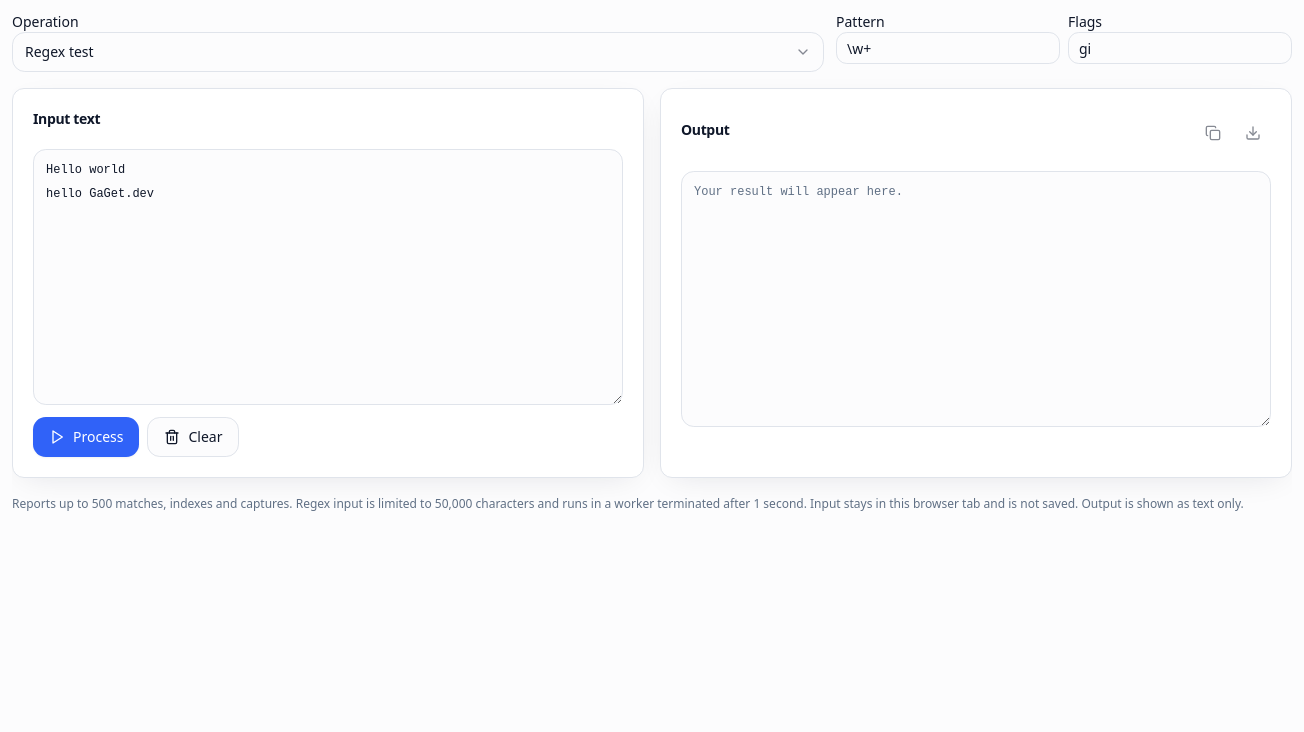
Test case: shows actionable regex errors without changing the source text
Replace the text in the field named "Regular expression pattern" with "[": {"x": 948, "y": 48} [836,32,1060,64]
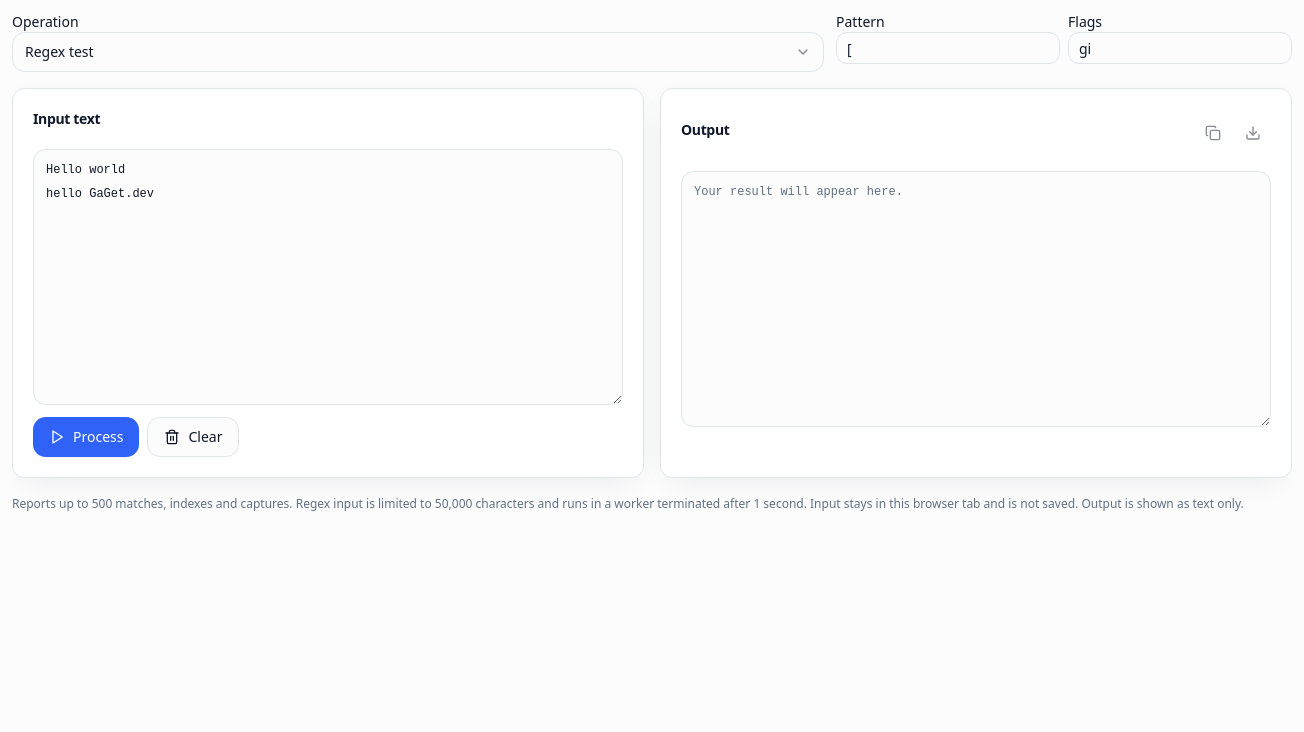
Click the button "Process": {"x": 86, "y": 437} [33,417,140,457]
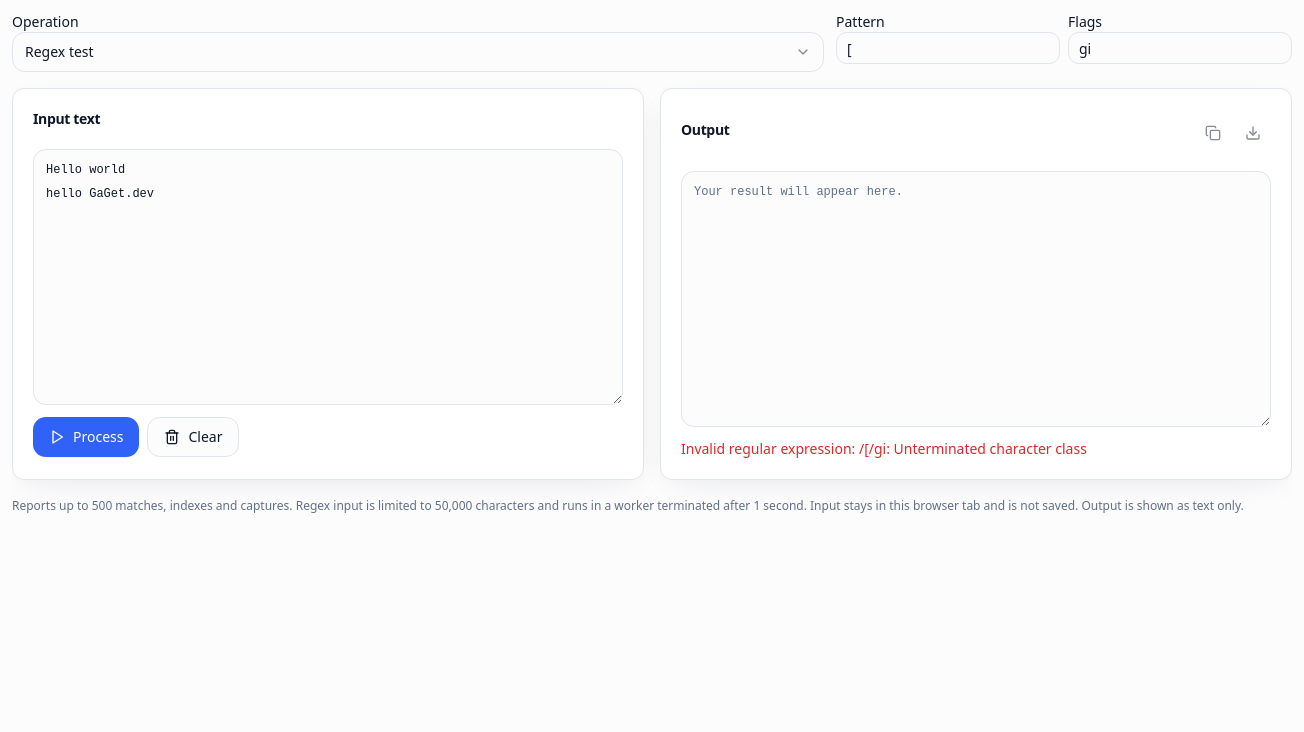
Result: the message shows "regular expression" at [681,439,1087,458]
